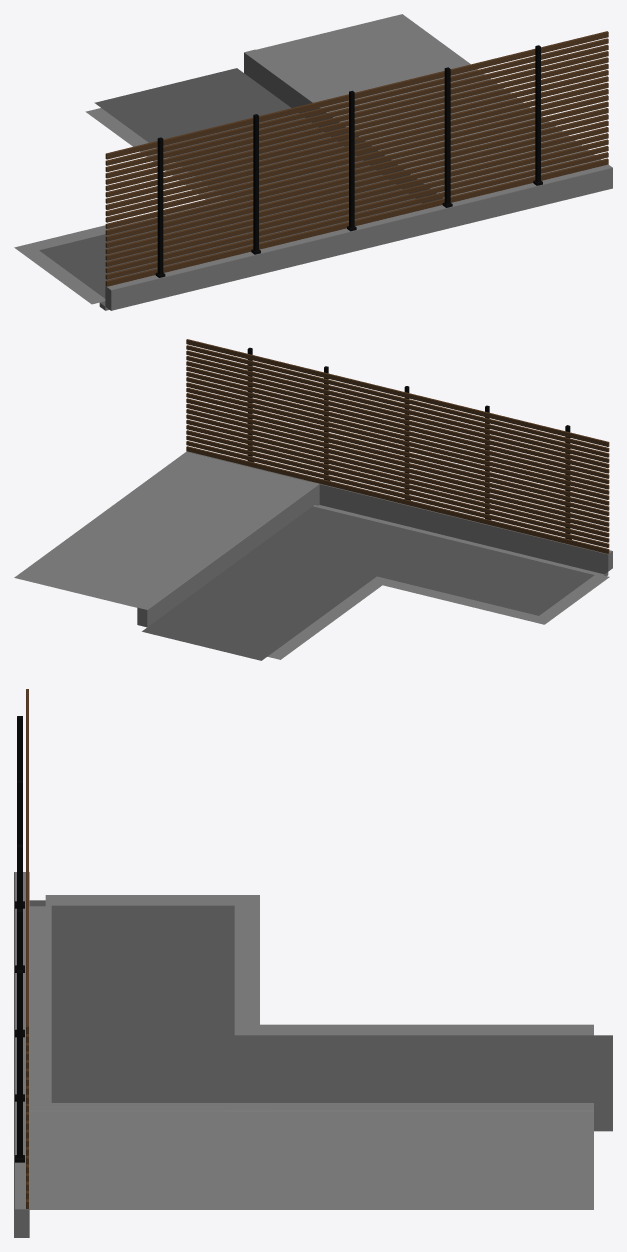
Rendered from Outside.FBX.
3 views of the same model, one above another, from view 1: azimuth 30°, elevation 25°; view 2: azimuth 150°, elevation 25°; view 3: azimuth 270°, elevation 25° (orthographic). The views are drawn at different scales.
Visible parts, largest first — view 1: Fence, OutsideFloor, BaseFance, StandFance; view 2: OutsideFloor, Fence, BaseFance, StandFance; view 3: OutsideFloor, BaseFance, StandFance, Fence.
Boxes of the visible parts, x1,y1,x2,y2 form: Fence: (105,31,608,286); OutsideFloor: (14,14,601,310); BaseFance: (105,164,612,310); StandFance: (155,45,542,277); OutsideFloor: (14,451,609,660); Fence: (186,339,609,553); BaseFance: (186,451,612,571); StandFance: (247,347,571,539); OutsideFloor: (29,895,612,1209); BaseFance: (14,872,29,1237); StandFance: (15,716,24,1162); Fence: (26,689,28,1208).
Size of the model in its own units: 643 by 196 by 475.
